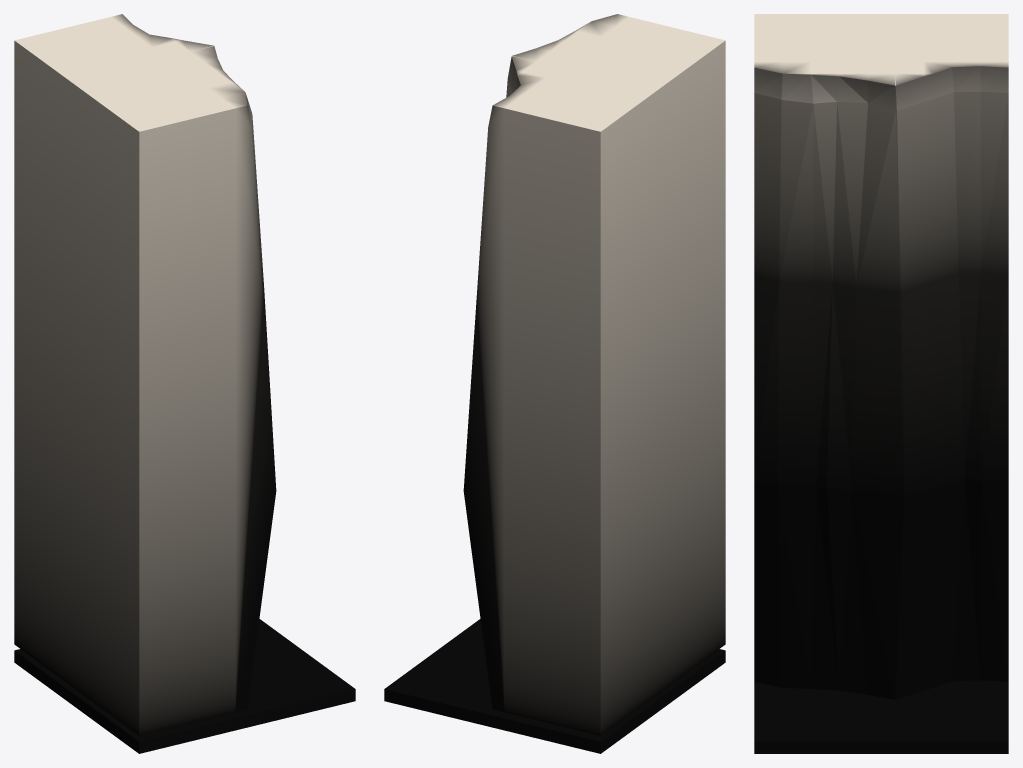
The model's file is SM_VKI_Ground_Cave_OXXO_Q00.fbx.
3 views of the same model, side by side, from view 1: azimuth 30°, elevation 25°; view 2: azimuth 150°, elevation 25°; view 3: azimuth 270°, elevation 25° (orthographic).
Parts seen in each view (by area): view 1: SM_VKI_Ground_Cave_OXXO_Q00.001; view 2: SM_VKI_Ground_Cave_OXXO_Q00.001; view 3: SM_VKI_Ground_Cave_OXXO_Q00.001.
Part boxes in pixels (x1=…): SM_VKI_Ground_Cave_OXXO_Q00.001: x1=14, y1=14, x2=355, y2=753; SM_VKI_Ground_Cave_OXXO_Q00.001: x1=384, y1=14, x2=725, y2=753; SM_VKI_Ground_Cave_OXXO_Q00.001: x1=754, y1=14, x2=1008, y2=753.
Bounding box in the file's own units: 1.5 × 4.12 × 1.5.
